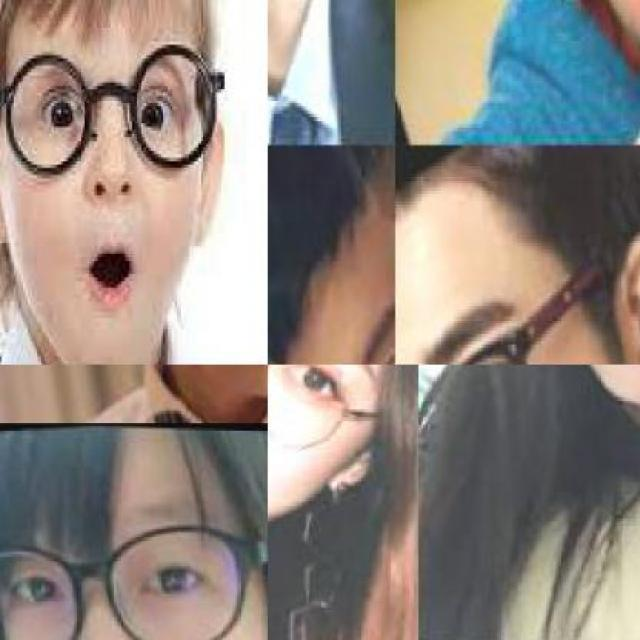glasses: (0, 499, 266, 638), (0, 44, 228, 178), (394, 243, 631, 363), (268, 364, 396, 476)
